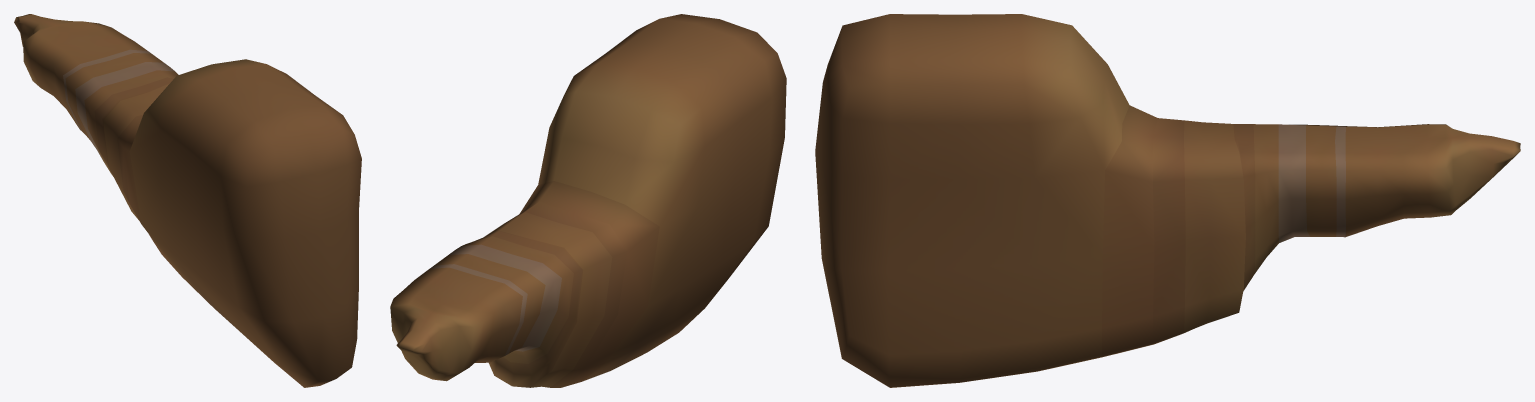
The model's file is SandstoneMesa.004.glb.
3 views of the same model, side by side, from view 1: azimuth 30°, elevation 25°; view 2: azimuth 150°, elevation 25°; view 3: azimuth 270°, elevation 25° (orthographic). The views are drawn at different scales.
Visible parts, largest first — view 1: SandstoneMesa.004; view 2: SandstoneMesa.004; view 3: SandstoneMesa.004.
Boxes of the visible parts, x1,y1,x2,y2 form: SandstoneMesa.004: (14,14,361,387); SandstoneMesa.004: (390,14,786,387); SandstoneMesa.004: (815,14,1520,387).
Size of the model in its own units: 1421 by 3005 by 5646.
